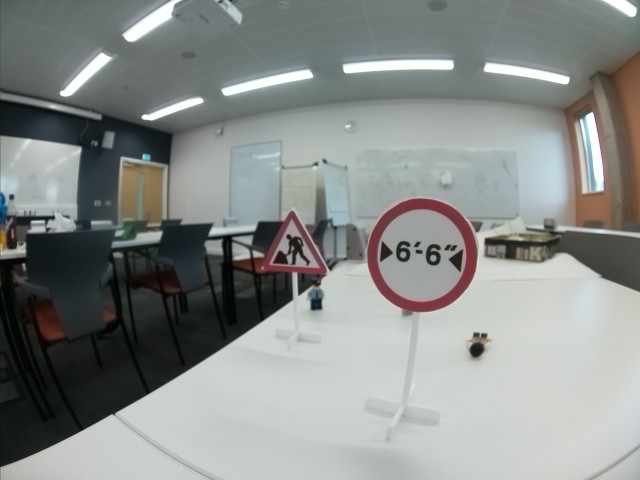6ft6: (367, 197, 476, 311)
Lego Man: (305, 276, 327, 312), (466, 331, 491, 359)
Roadworks: (262, 211, 331, 273)
